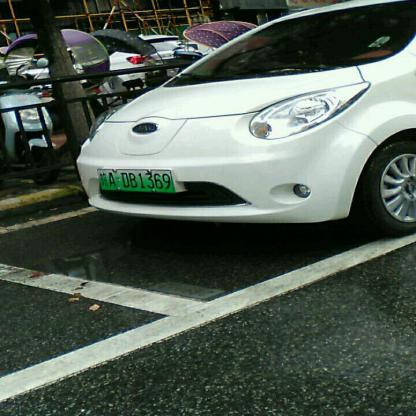lp: (96, 168, 174, 193)
